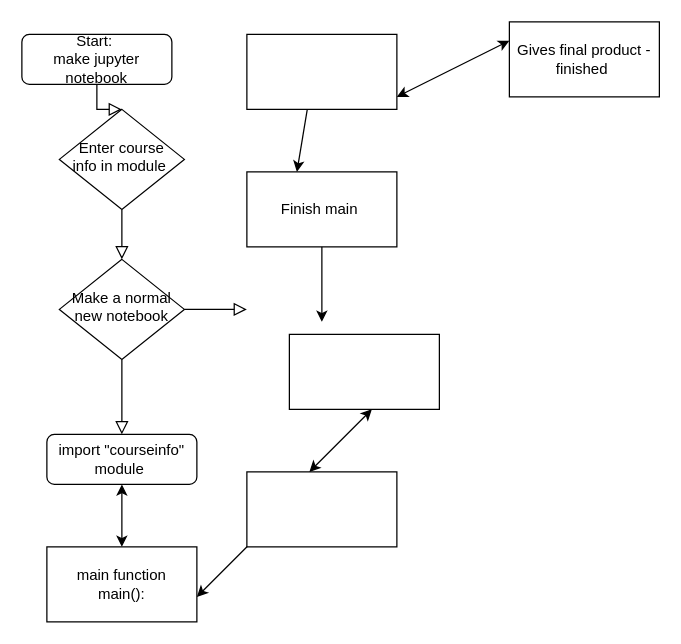
This 681x644 diagram has some shape labels left out. The box of each missing label's shape, as (x1, y1, x2, y2) in pixels:
Code done: Enter a course number: (246, 33, 397, 109)
Display using print: enter in each course info: (288, 333, 439, 409)
Use input to allow to enter course number: (246, 471, 397, 547)
